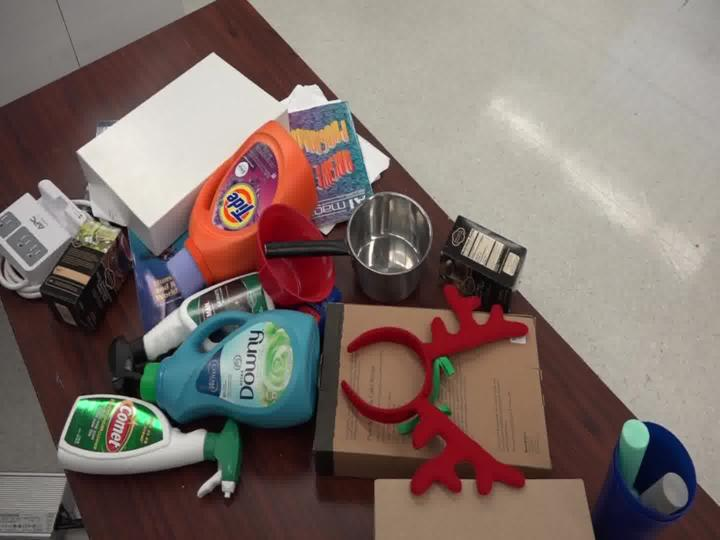tide: (154, 109, 328, 287)
